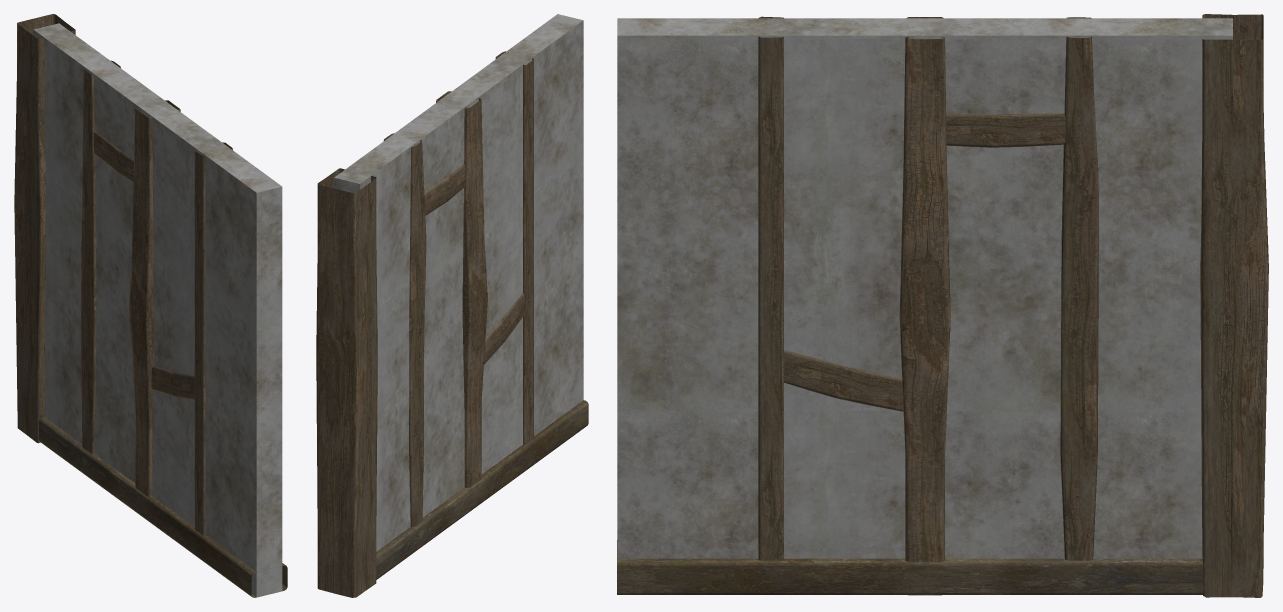
The model's file is SM_Wall17.fbx.
3 views of the same model, side by side, from view 1: azimuth 30°, elevation 25°; view 2: azimuth 150°, elevation 25°; view 3: azimuth 270°, elevation 25° (orthographic). The views are drawn at different scales.
Visible parts, largest first — view 1: SM_Wall17_LOD0; view 2: SM_Wall17_LOD0; view 3: SM_Wall17_LOD0.
Part boxes in pixels (x1,y1,x2,y2): SM_Wall17_LOD0: (14, 14, 287, 597); SM_Wall17_LOD0: (316, 14, 588, 597); SM_Wall17_LOD0: (617, 14, 1268, 597).
Bounding box in the file's own units: 33.47 × 318 × 300.
